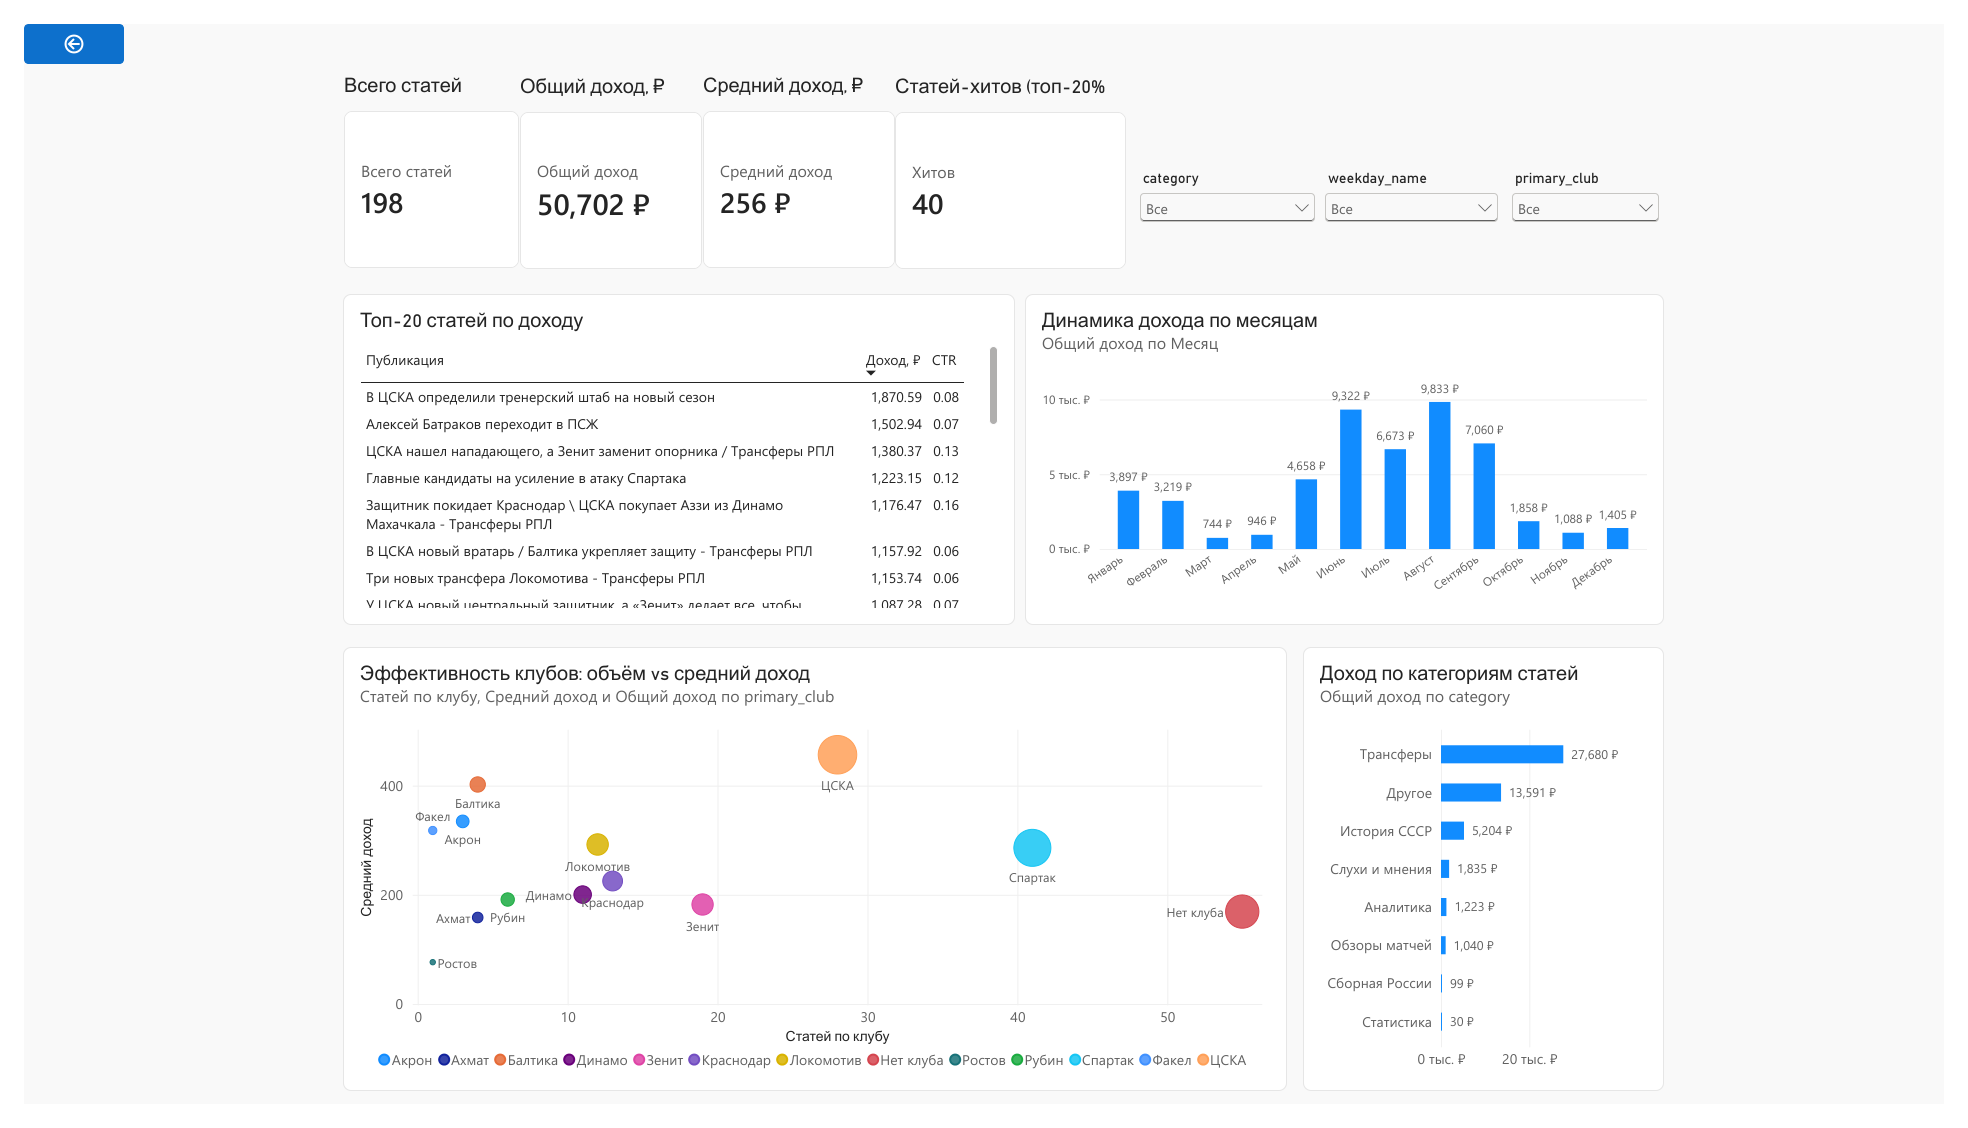

The page's visual inventory and layout, read from the dashboard file:
{"tool":"powerbi","page":{"name":"Страница 1","canvas":[1920,1080],"ordinal":0},"visuals":[{"type":"cardVisual","title":"Всего статей","fields":{"Data":["dzen_articles.Всего статей"]},"box":[320,50,175.1,194],"z":0},{"type":"cardVisual","title":"Общий доход, ₽","fields":{"Data":["dzen_articles.Общий доход"]},"box":[495.7,51.4,182.4,194],"z":1000},{"type":"cardVisual","title":"Средний доход, ₽","fields":{"Data":["dzen_articles.Средний доход"]},"box":[678.6,50,192.6,194],"z":2000},{"type":"cardVisual","title":"Статей-хитов (топ-20%","fields":{"Data":["dzen_articles.Хитов"]},"box":[871.4,51.4,232,194],"z":3000},{"type":"columnChart","title":"Динамика дохода по месяцам","fields":{"Category":["dzen_articles.Дата публикации.Изменение.Иерархия дат.Месяц","dzen_articles.Дата публикации.Изменение.Иерархия дат.День"],"Y":["dzen_articles.Общий доход"]},"box":[1001.4,270,638.6,331.4],"z":4000},{"type":"barChart","title":"Доход по категориям статей","fields":{"Category":["dzen_articles.category"],"Y":["dzen_articles.Общий доход"]},"box":[1278.6,622.9,361.4,444.3],"z":5000},{"type":"scatterChart","title":"Эффективность клубов: объём vs средний доход","fields":{"Series":["dzen_articles.primary_club"],"Size":["dzen_articles.Общий доход"],"X":["dzen_articles.Статей по клубу"],"Y":["dzen_articles.Средний доход"]},"box":[318.6,622.9,944.3,444.3],"z":6000},{"type":"actionButton","box":[0,0,100,40],"z":7000},{"type":"tableEx","title":"Топ-20 статей по доходу","fields":{"Values":["dzen_articles.Публикация","Sum(dzen_articles.Суммарный доход)","Sum(dzen_articles.CTR_clean)"]},"box":[318.6,270,672.9,331.4],"z":8000},{"type":"slicer","fields":{"Values":["dzen_articles.category"]},"box":[1111.4,145.7,184.3,97.1],"z":9000},{"type":"slicer","fields":{"Values":["dzen_articles.primary_club"]},"box":[1482.9,145.7,157.1,107.1],"z":10000},{"type":"slicer","fields":{"Values":["dzen_articles.weekday_name"]},"box":[1295.7,145.7,183,150],"z":11000}]}

Visuals, with their boxes in screenshot pixels (x1, y1, x2, y2), scaled from the page's 1920x1080 canvas onto the 1968x1128 screenshot:
"Всего статей" cardVisual: crop(328, 52, 507, 255)
"Общий доход, ₽" cardVisual: crop(508, 54, 695, 256)
"Средний доход, ₽" cardVisual: crop(696, 52, 893, 255)
"Статей-хитов (топ-20%" cardVisual: crop(893, 54, 1131, 256)
"Динамика дохода по месяцам" columnChart: crop(1026, 282, 1681, 628)
"Доход по категориям статей" barChart: crop(1311, 651, 1681, 1115)
"Эффективность клубов: объём vs средний доход" scatterChart: crop(327, 651, 1294, 1115)
actionButton: crop(0, 0, 102, 42)
"Топ-20 статей по доходу" tableEx: crop(327, 282, 1016, 628)
slicer - dzen_articles.category: crop(1139, 152, 1328, 254)
slicer - dzen_articles.primary_club: crop(1520, 152, 1681, 264)
slicer - dzen_articles.weekday_name: crop(1328, 152, 1516, 309)
